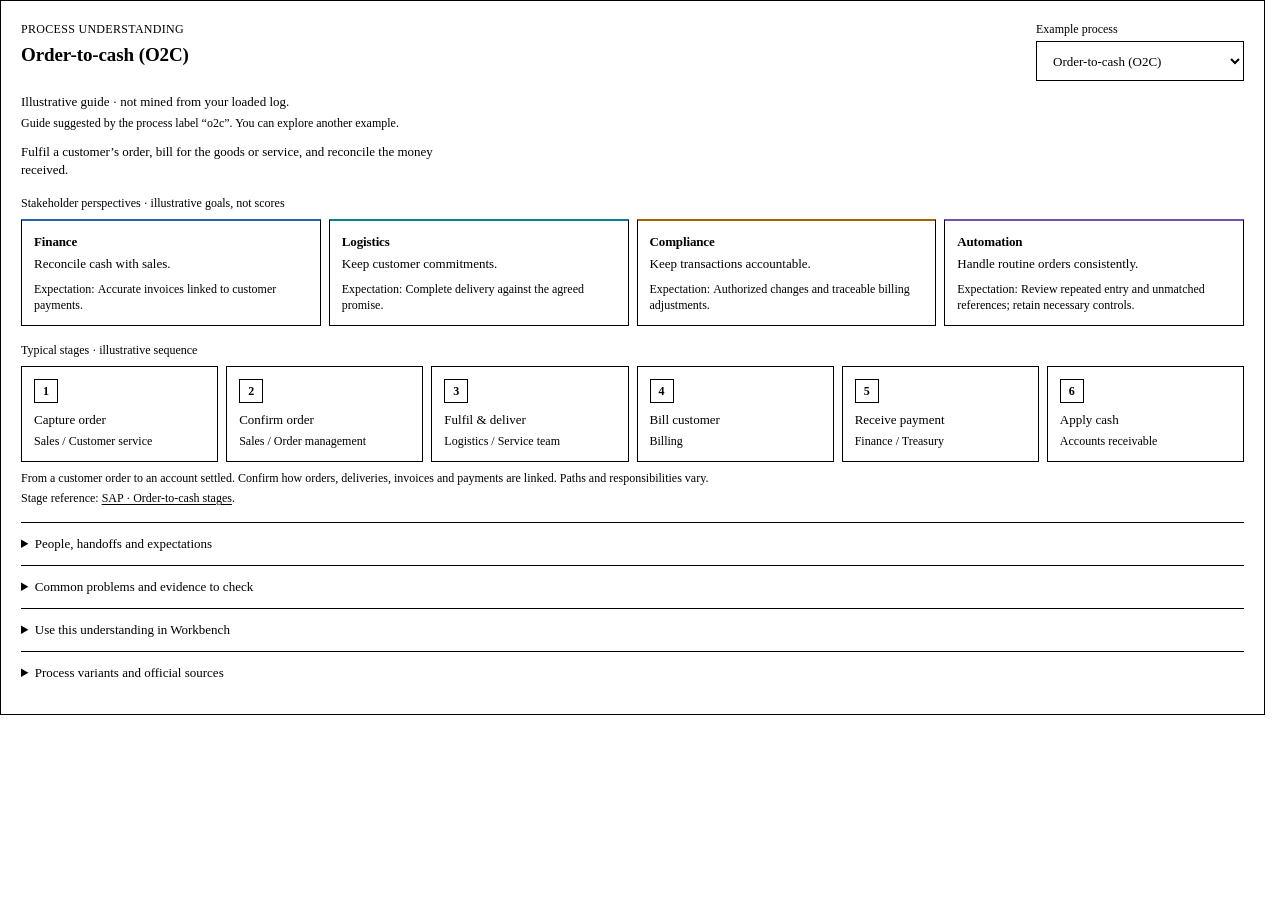
Test case: ProcessPrimer › uses Workbench terms and keeps the primer separate from norm configuration
Click the heading "Use this understanding in Workbench" at (132, 630), box [35,622,230,637]
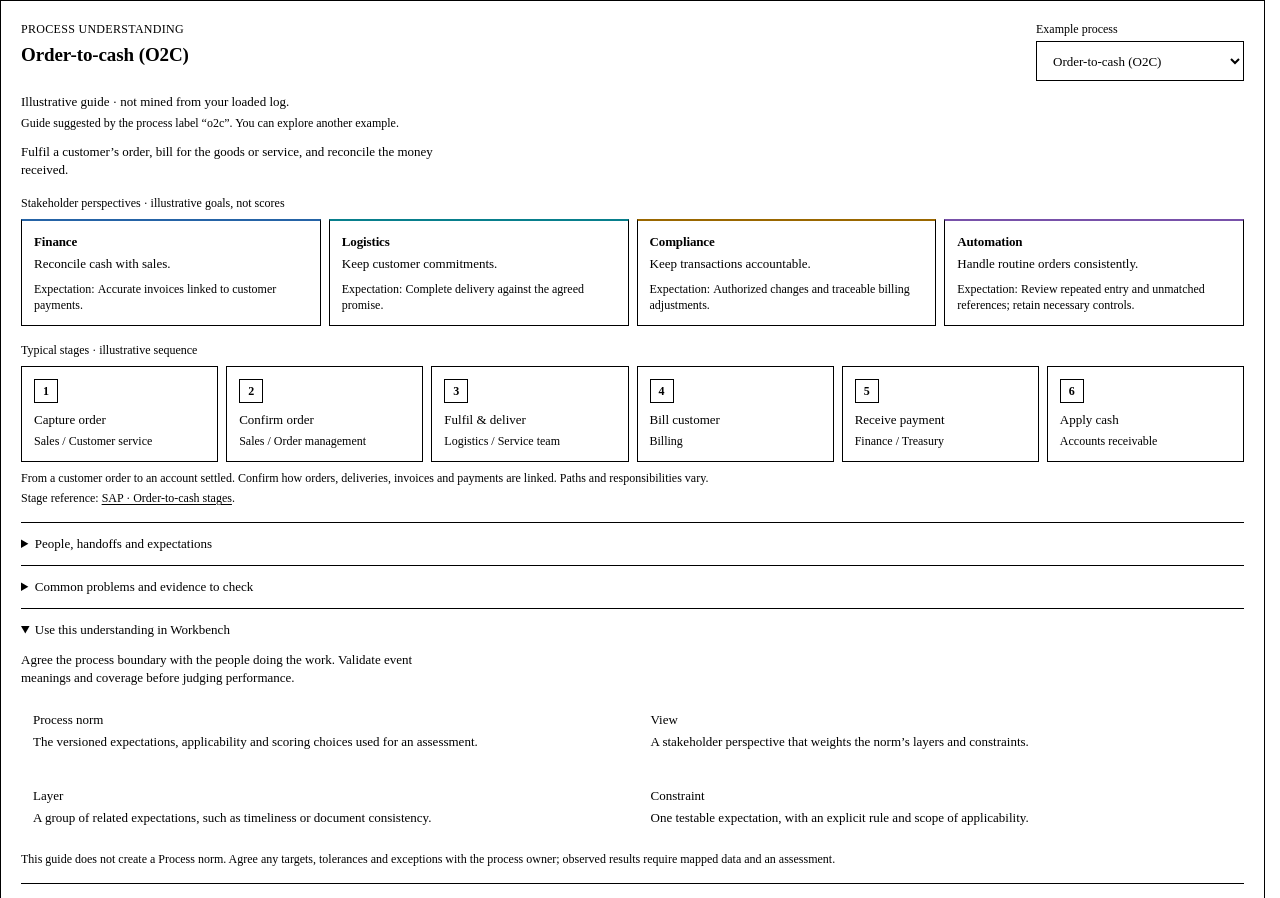
Result: the text "Process norm" is shown at [33,712,103,727]
Result: the text "View" is shown at [650,712,678,727]
Result: the text "Layer" is shown at [33,788,63,803]
